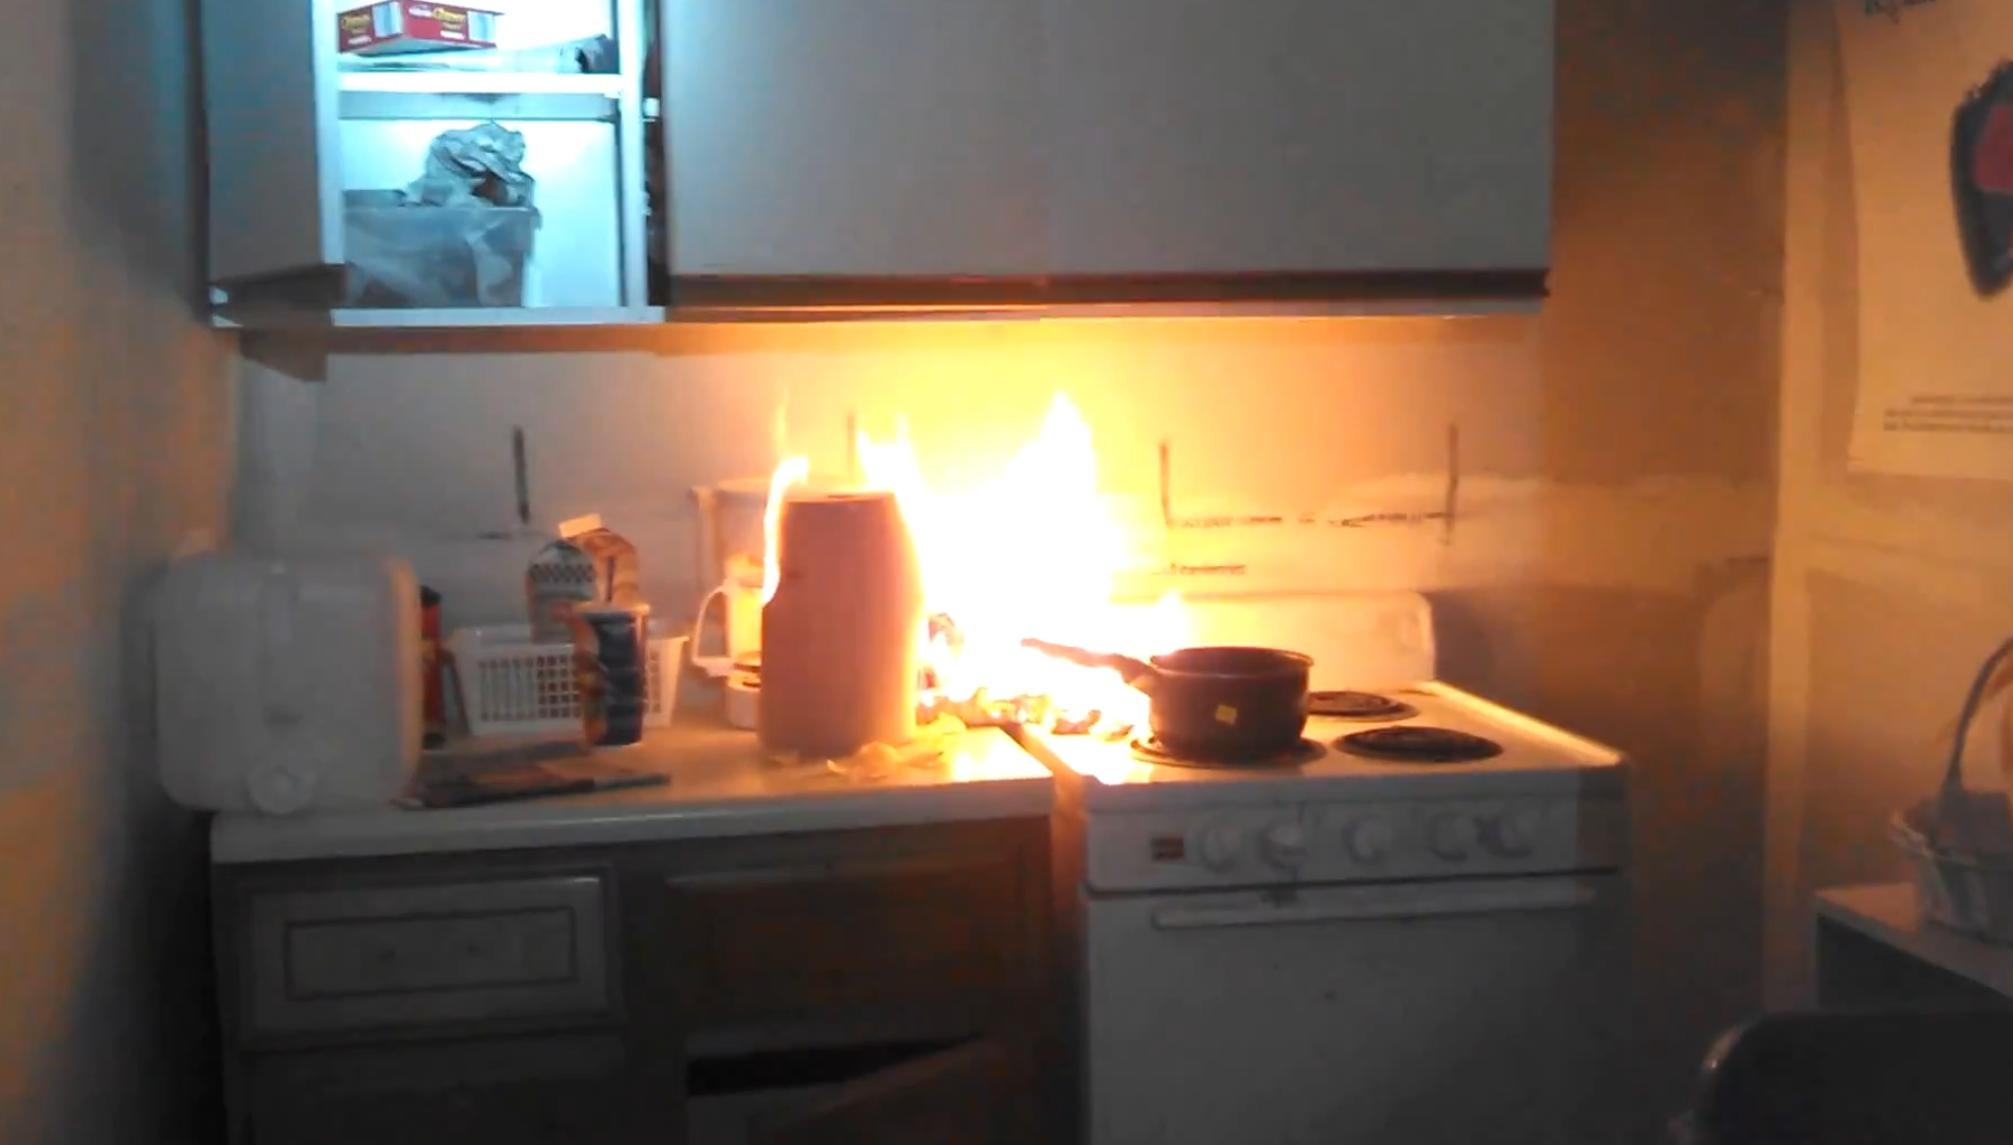fire: (789, 382, 1178, 773)
